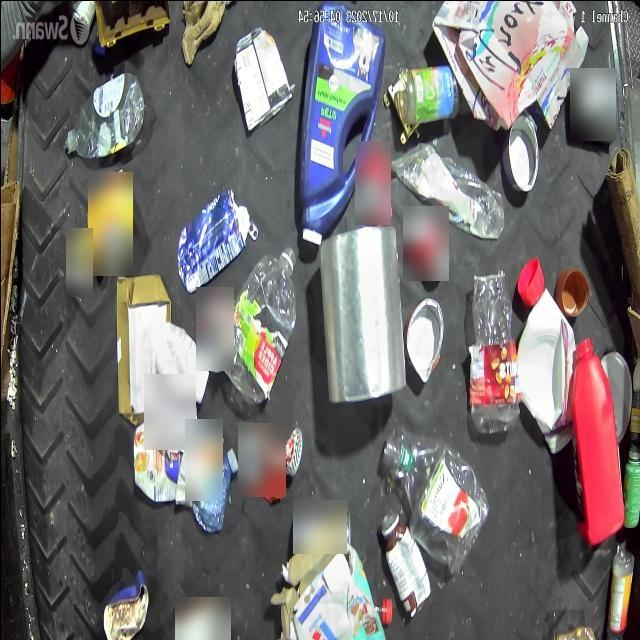non_white_jug: (296, 0, 384, 243), (568, 335, 624, 545)
plastic_bottle: (378, 424, 488, 568), (219, 240, 297, 402), (66, 71, 146, 161)
